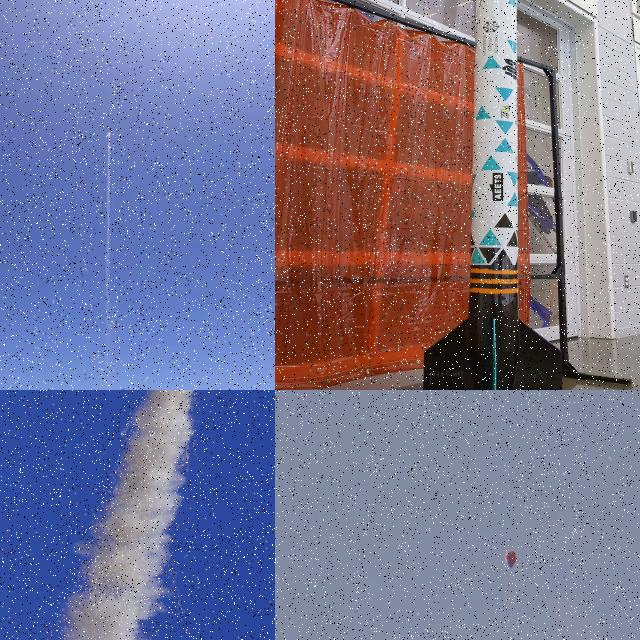Rocket: (423, 0, 563, 390), (108, 130, 111, 134)
